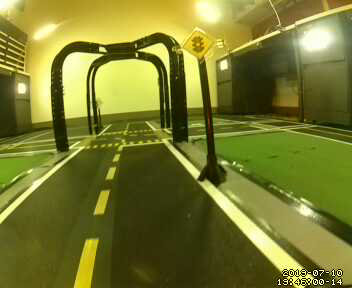Traffic light sign: (182, 28, 215, 59)
